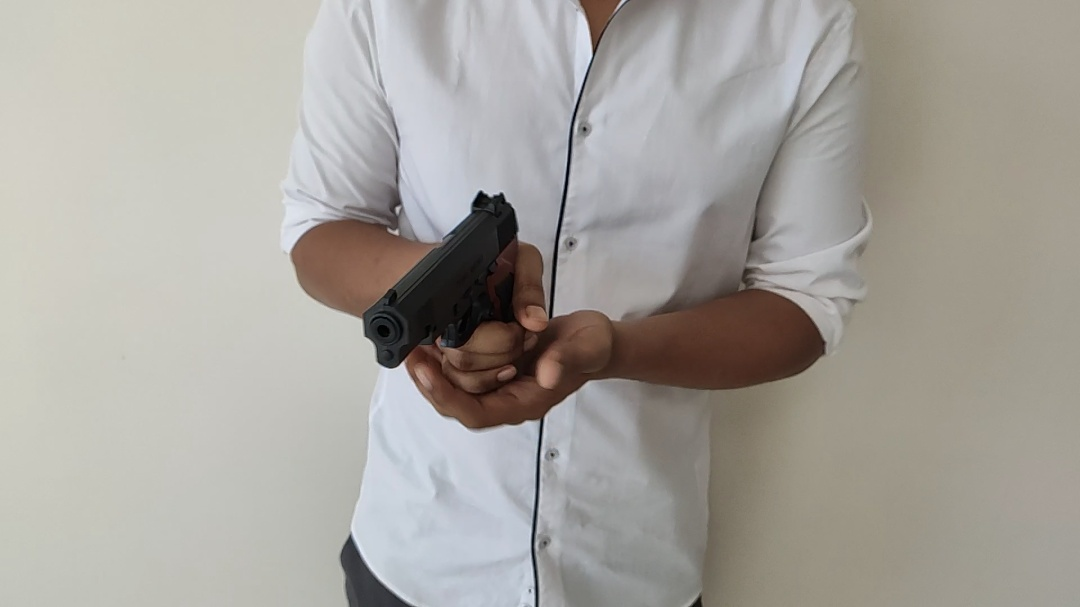gun: (359, 190, 522, 371)
